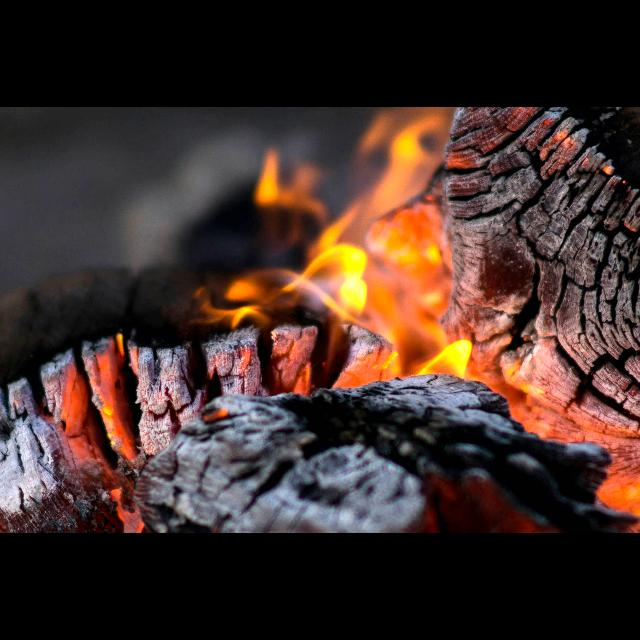fire: (0, 111, 640, 534)
